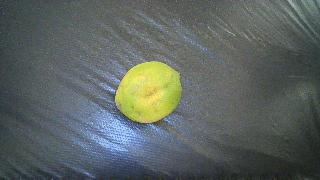DESECHO: (115, 61, 182, 123)
